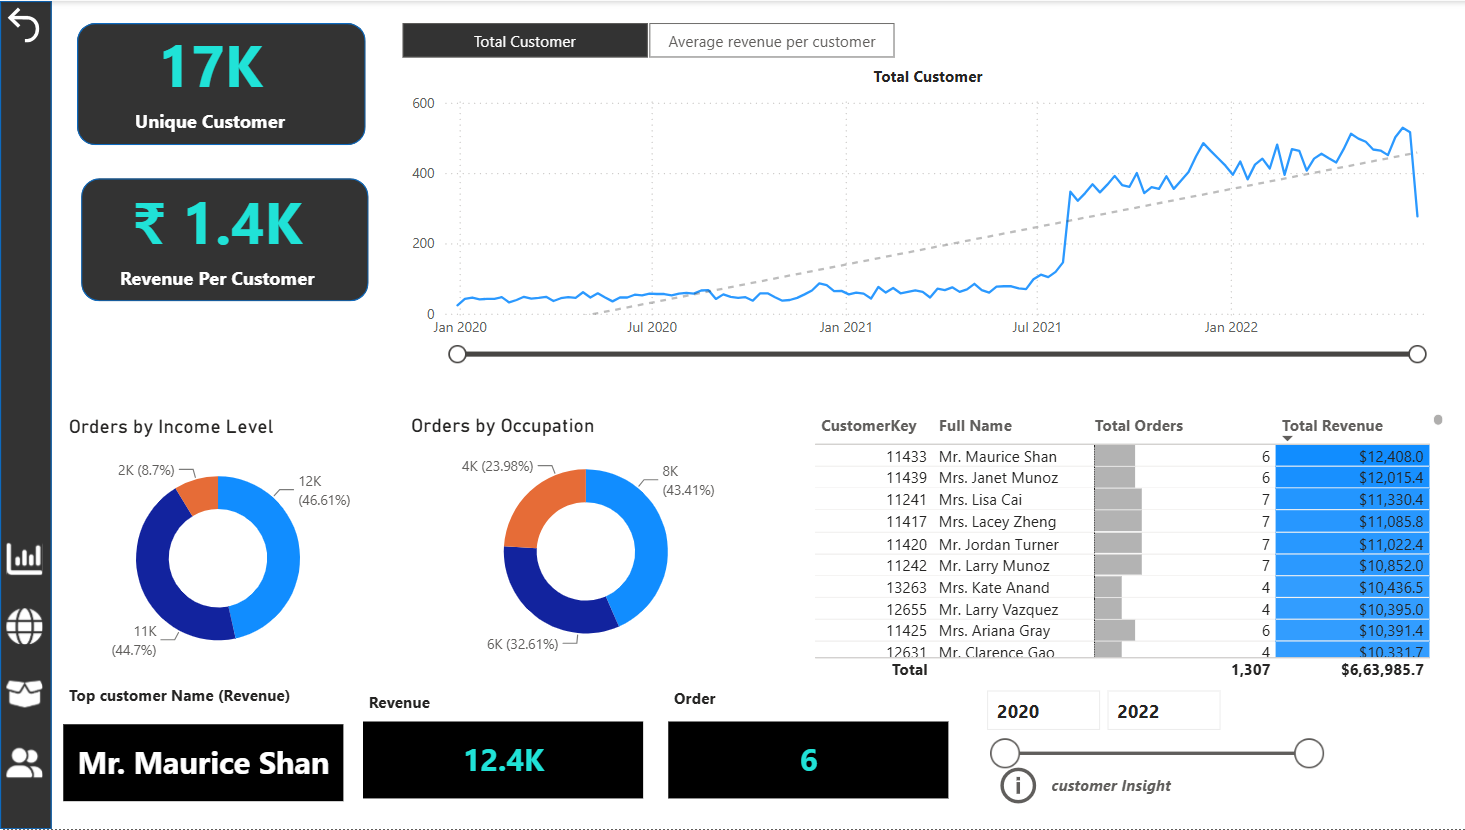

Layout of this report page (visuals, bound fields, positions):
{"tool":"powerbi","page":{"name":"Customer Details","canvas":[1280,720],"ordinal":3},"visuals":[{"type":"shape","box":[0,0,45,720.3],"z":0},{"type":"actionButton","box":[0.7,465.2,100.5,39.5],"z":0,"group":"g3"},{"type":"group","id":"g1","title":"Group 2","box":[28.3,12.6,308.1,254.7],"z":1000},{"type":"actionButton","box":[0.7,523.7,100.5,39.9],"z":1000,"group":"g3"},{"type":"lineChart","fields":{"Category":["Calendar Lookup.Date Hierarchy.Start of Year","Calendar Lookup.Date Hierarchy.Start of Month","Calendar Lookup.Date Hierarchy.Start of Week","Calendar Lookup.Date Hierarchy.Date"],"Y":["Measure Table.Total Customer"]},"box":[352.6,56.5,908.9,261.7],"z":2000},{"type":"actionButton","box":[0.7,582.8,100.5,39.9],"z":2000,"group":"g3"},{"type":"shape","box":[66.1,18.6,251.1,106.2],"z":3000,"group":"g2"},{"type":"donutChart","title":"Orders by Income Level","fields":{"Category":["Customer Lookup.Income Level"],"Y":["Measure Table.Total Orders"]},"box":[55,360,269.1,229.6],"z":3000},{"type":"actionButton","box":[0.7,641.8,100.5,39.9],"z":3000,"group":"g3"},{"type":"cardVisual","fields":{"Data":["Measure Table.Total Customer"]},"box":[28.3,12.6,308.1,109.6],"z":4000,"group":"g2"},{"type":"donutChart","title":"Orders by Occupation","fields":{"Category":["Customer Lookup.Occupation"],"Y":["Measure Table.Total Orders"]},"box":[352.8,358.8,313.3,220],"z":4000},{"type":"tableEx","fields":{"Values":["Customer Lookup.CustomerKey","Customer Lookup.Full Name","Measure Table.Total Orders","Measure Table.Total Revenue"]},"box":[703.2,354,557.3,240.4],"z":5000},{"type":"group","id":"g2","title":"Group 1","box":[28.3,12.6,308.1,112.2],"z":5500,"group":"g1"},{"type":"shape","box":[70.7,154.1,250,106.9],"z":5750,"group":"g1"},{"type":"cardVisual","fields":{"Data":["Measure Table.Average revenue per customer"]},"box":[55,141.1,268.8,125.8],"z":6000,"group":"g1"},{"type":"card","fields":{"Values":["Measure Table.Full Name(Customer Details)"]},"box":[55.3,629,243.7,67.2],"z":6000},{"type":"textbox","box":[55.1,589.4,243.8,35.8],"z":7000},{"type":"card","fields":{"Values":["Measure Table.Total Revenue(customer details)"]},"box":[316,627,243.7,67.2],"z":8000},{"type":"textbox","box":[316,595.1,245.4,35.3],"z":9000},{"type":"card","fields":{"Values":["Measure Table.Total Order (customer details)"]},"box":[581.6,627,243.7,67.2],"z":10000},{"type":"textbox","box":[581.6,591.7,250.5,35.3],"z":11000},{"type":"slicer","fields":{"Values":["Calendar Lookup.Year"]},"box":[845.6,589.4,314,86.8],"z":12000},{"type":"actionButton","title":"Customer Insight","box":[864.9,661,198.3,41.3],"z":13000},{"type":"actionButton","box":[0,0,45.4,40.7],"z":14000},{"type":"group","id":"g3","title":"navigation page","box":[0.7,465.2,100.5,216.5],"z":14001},{"type":"slicer","fields":{"Values":["Customer Metrics Selection.Customer Metrics Selection"]},"box":[323.6,12.4,477.9,44.1],"z":14002}]}

Visuals, with their boxes on the page's 1280x720 design canvas (x1, y1, x2, y2). These are canvas units, not pixel positions in the 1465x830 screenshot, which may show the page scaled, cropped or inside an application window:
shape: <bbox>0, 0, 45, 720</bbox>
actionButton: <bbox>1, 465, 101, 505</bbox>
"Group 2" group: <bbox>28, 13, 336, 267</bbox>
actionButton: <bbox>1, 524, 101, 564</bbox>
lineChart - Calendar Lookup.Date Hierarchy.Start of Year x Calendar Lookup.Date Hierarchy.Start of Month: <bbox>353, 56, 1262, 318</bbox>
actionButton: <bbox>1, 583, 101, 623</bbox>
shape: <bbox>66, 19, 317, 125</bbox>
"Orders by Income Level" donutChart: <bbox>55, 360, 324, 590</bbox>
actionButton: <bbox>1, 642, 101, 682</bbox>
cardVisual - Measure Table.Total Customer: <bbox>28, 13, 336, 122</bbox>
"Orders by Occupation" donutChart: <bbox>353, 359, 666, 579</bbox>
tableEx - Customer Lookup.CustomerKey x Customer Lookup.Full Name: <bbox>703, 354, 1260, 594</bbox>
"Group 1" group: <bbox>28, 13, 336, 125</bbox>
shape: <bbox>71, 154, 321, 261</bbox>
cardVisual - Measure Table.Average revenue per customer: <bbox>55, 141, 324, 267</bbox>
card - Measure Table.Full Name(Customer Details): <bbox>55, 629, 299, 696</bbox>
textbox: <bbox>55, 589, 299, 625</bbox>
card - Measure Table.Total Revenue(customer details): <bbox>316, 627, 560, 694</bbox>
textbox: <bbox>316, 595, 561, 630</bbox>
card - Measure Table.Total Order (customer details): <bbox>582, 627, 825, 694</bbox>
textbox: <bbox>582, 592, 832, 627</bbox>
slicer - Calendar Lookup.Year: <bbox>846, 589, 1160, 676</bbox>
"Customer Insight" actionButton: <bbox>865, 661, 1063, 702</bbox>
actionButton: <bbox>0, 0, 45, 41</bbox>
"navigation page" group: <bbox>1, 465, 101, 682</bbox>
slicer - Customer Metrics Selection.Customer Metrics Selection: <bbox>324, 12, 802, 56</bbox>
